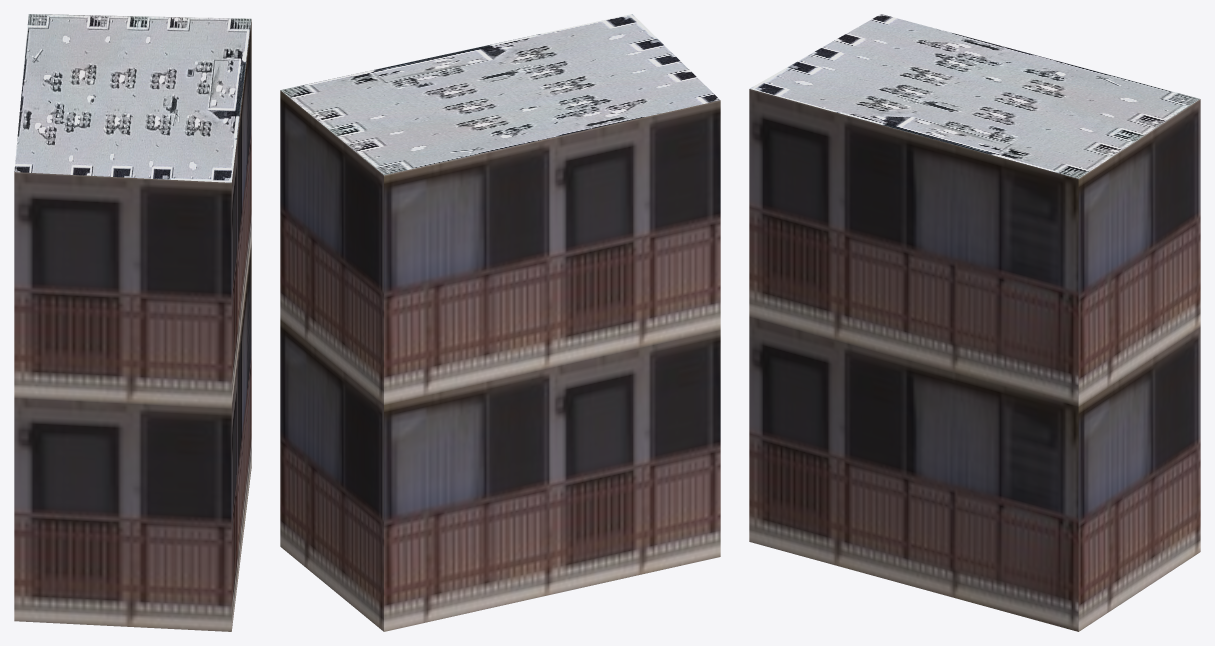
File: ResTex__3089.fbx
3 views of the same model, side by side, from view 1: azimuth 30°, elevation 25°; view 2: azimuth 150°, elevation 25°; view 3: azimuth 270°, elevation 25° (orthographic).
Parts seen in each view (by area): view 1: CityEngineMaterial_6_m, CityEngineMaterial_4_m; view 2: CityEngineMaterial_6_m, CityEngineMaterial_4_m; view 3: CityEngineMaterial_6_m, CityEngineMaterial_4_m.
Part boxes in pixels (box(x1,y1,x2,y2)): CityEngineMaterial_6_m: box(14, 19, 251, 631); CityEngineMaterial_4_m: box(14, 14, 251, 182); CityEngineMaterial_6_m: box(280, 90, 720, 631); CityEngineMaterial_4_m: box(280, 14, 719, 175); CityEngineMaterial_6_m: box(749, 89, 1200, 631); CityEngineMaterial_4_m: box(749, 14, 1199, 178).
Size of the model in its own units: 4.68 by 6 by 5.42.
Materials: 2 (2 with a texture image).
